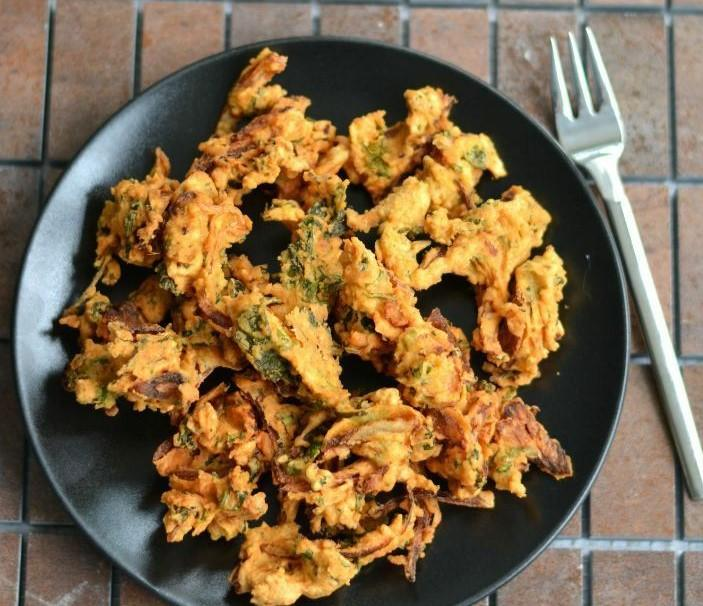OnionPakoda: (59, 46, 574, 606)
